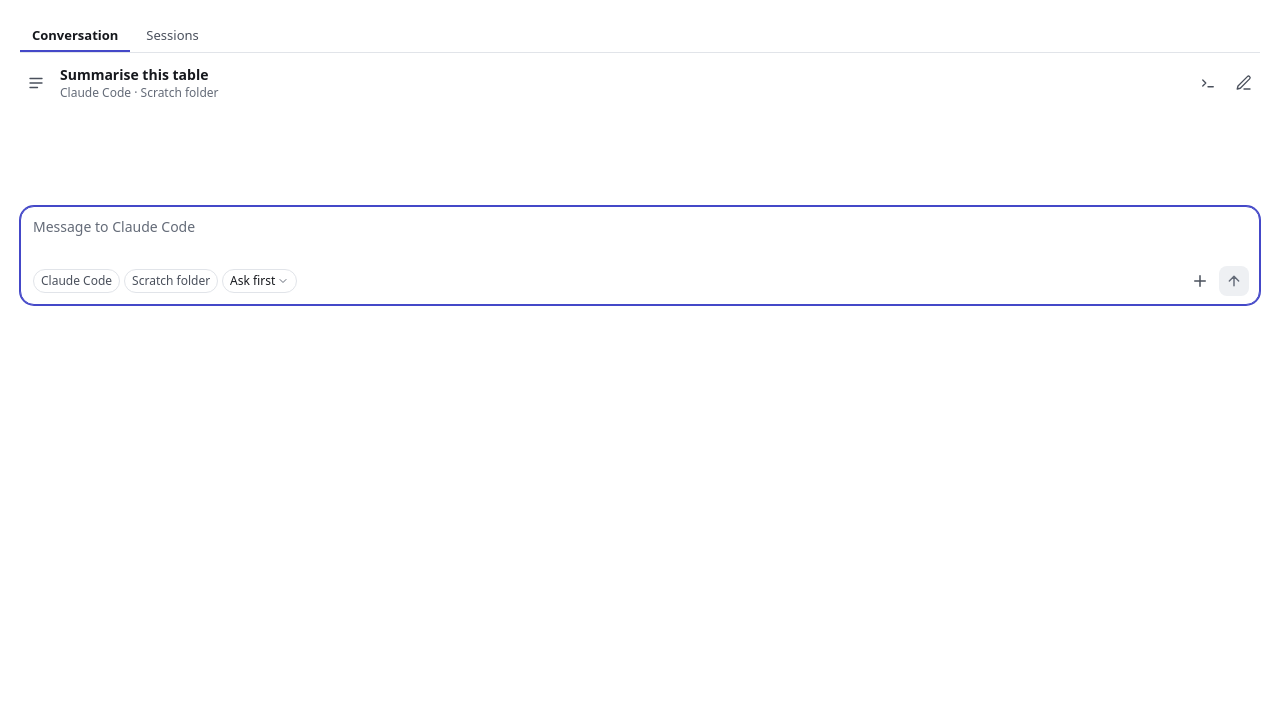
Test: T598 the header and the conversation drawer › opens a chosen row, closes, and puts the focus in the message box
Click the button named "Show conversations".
click(36, 83)  # box [20,67,52,99]
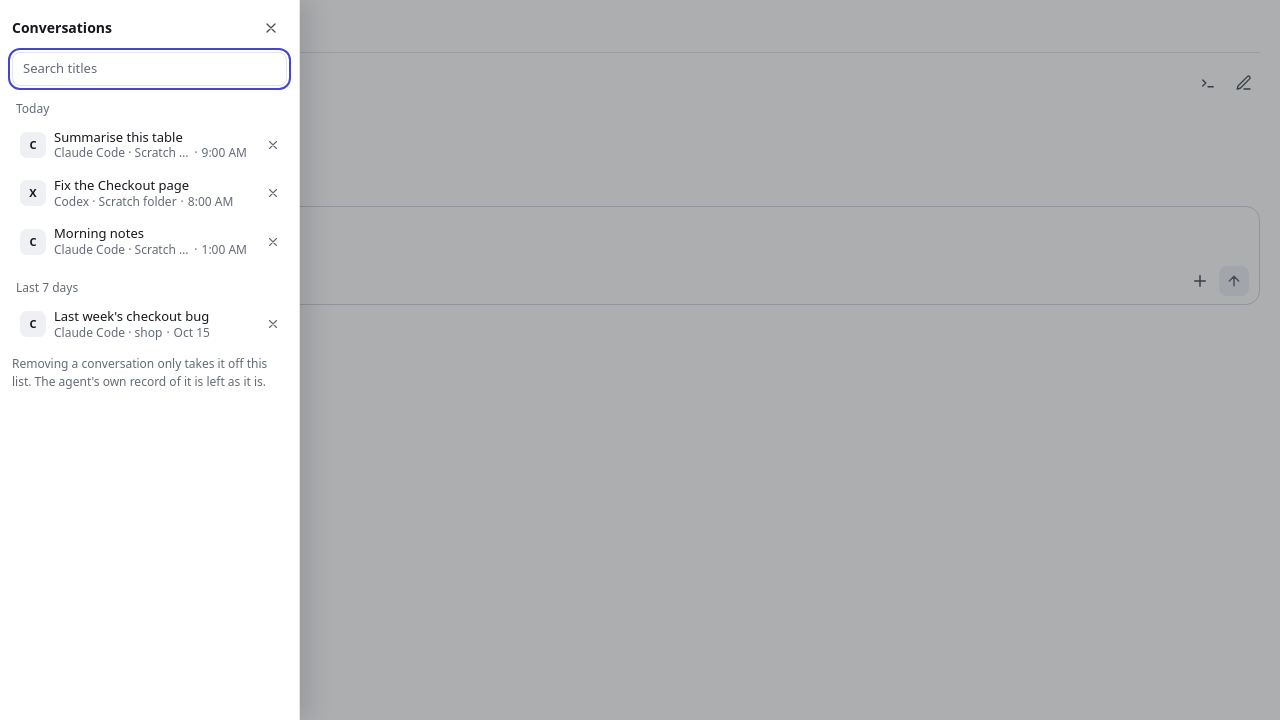
Click the button "X Fix the Checkout page Codex · Scratch folder · 8:00 AM".
click(134, 193)  # box [12,170,255,216]
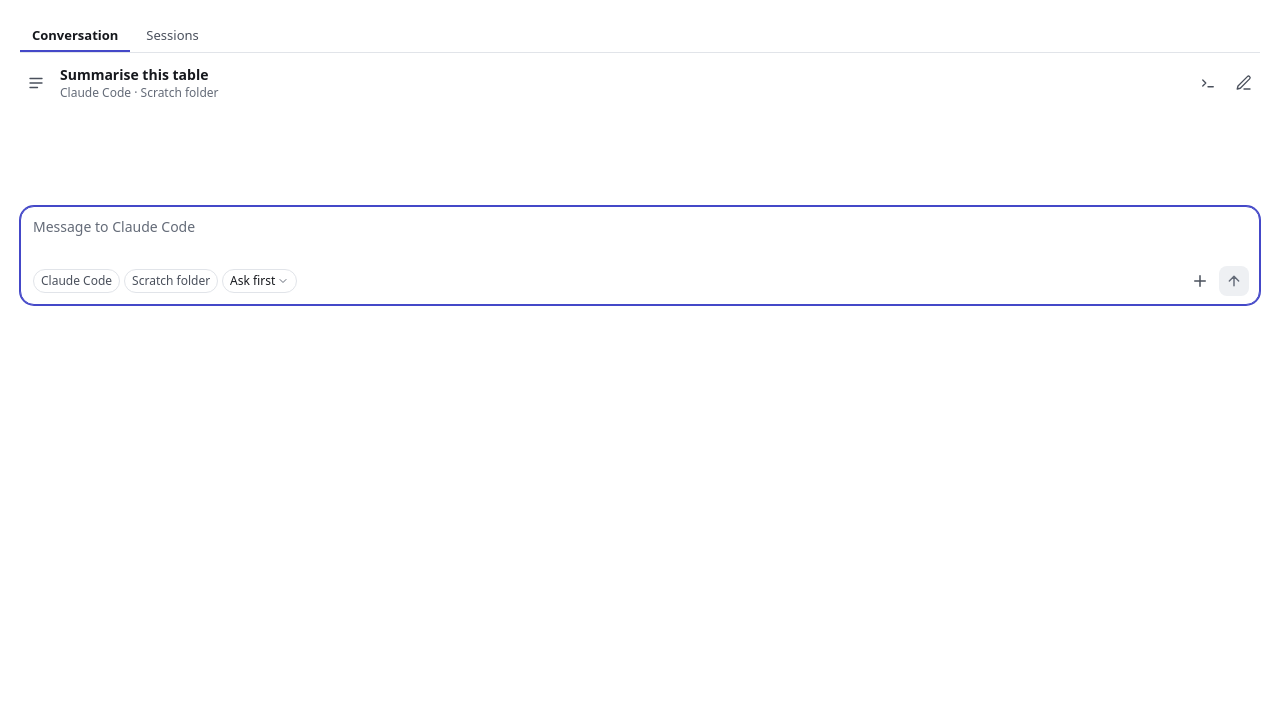
Expected: the dialog is gone
